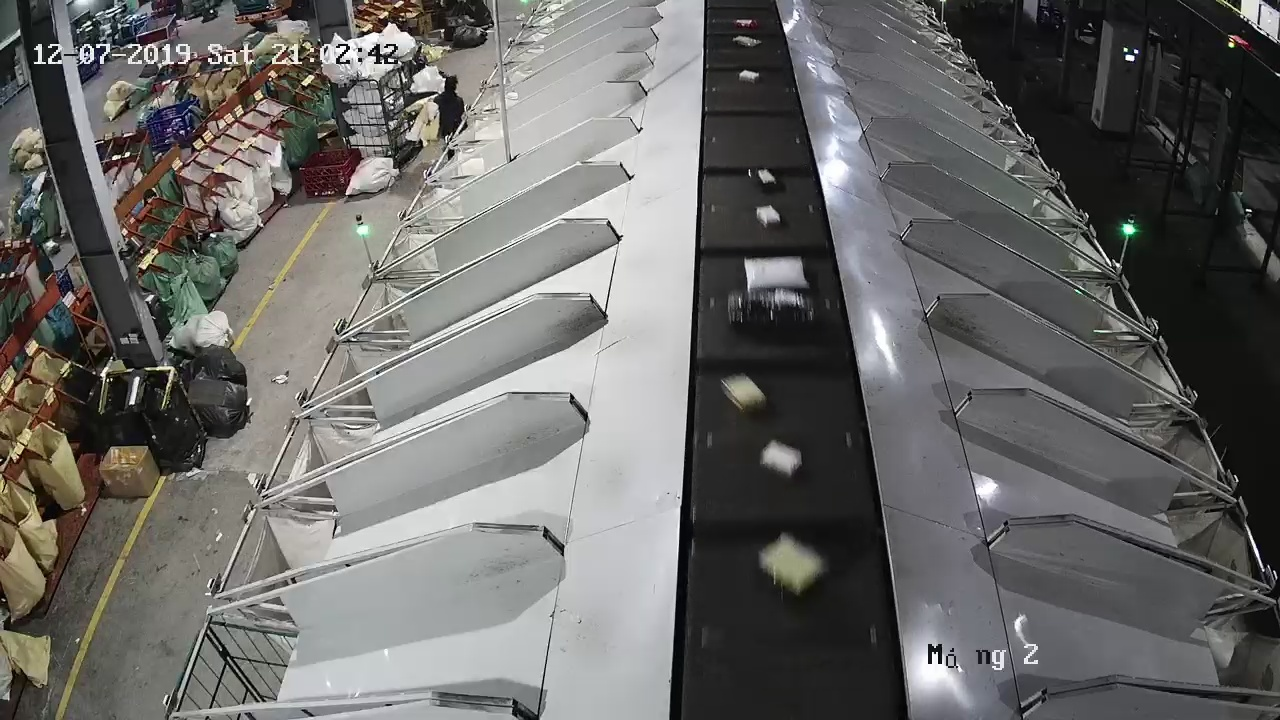parcel: (718, 370, 768, 415)
